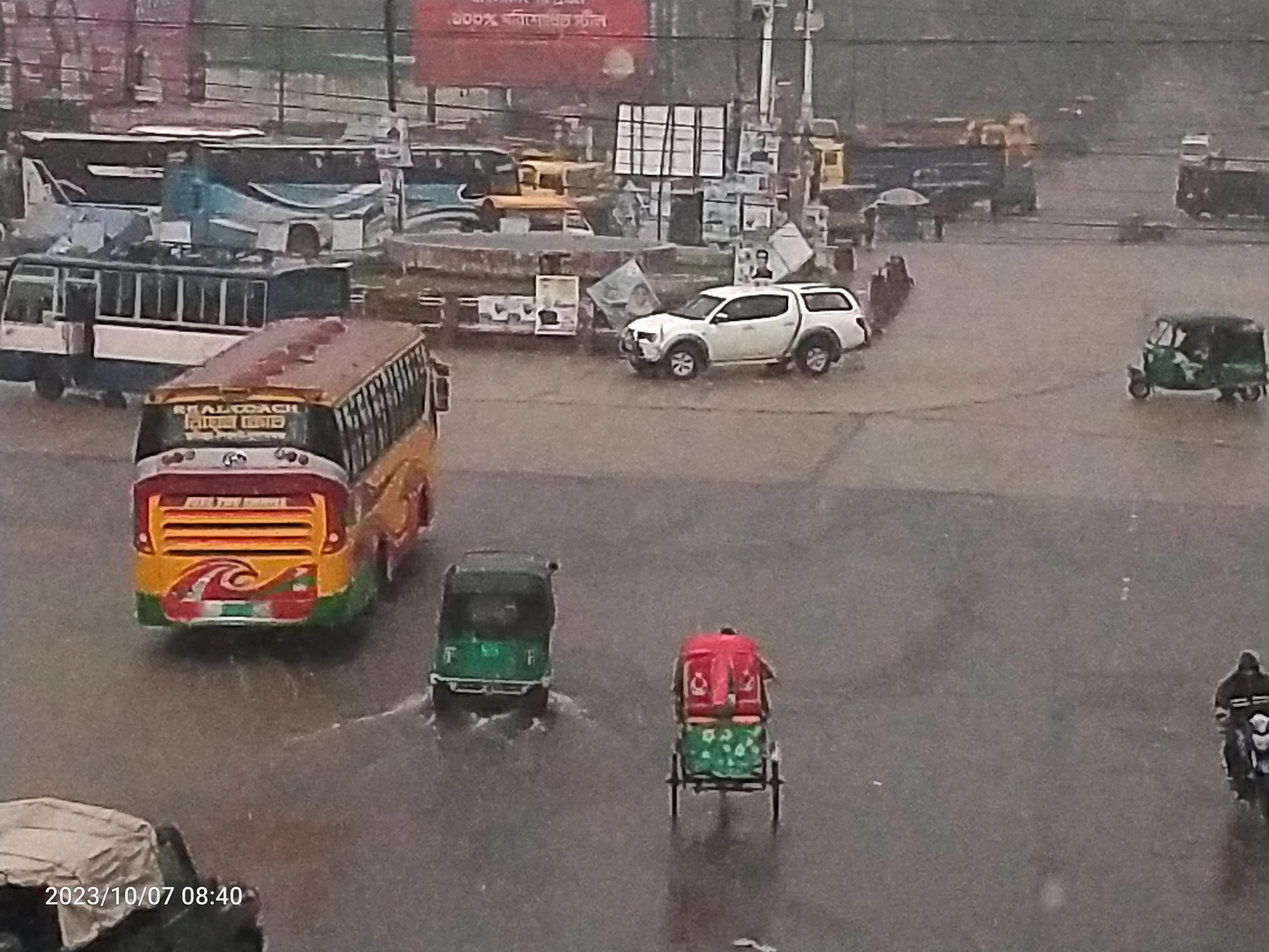Bike: (1193, 597, 1269, 854)
Bus: (0, 232, 378, 418), (159, 133, 530, 291)
Car: (625, 612, 852, 875), (592, 252, 914, 424)
Truck: (0, 755, 311, 952), (792, 127, 1023, 240)
